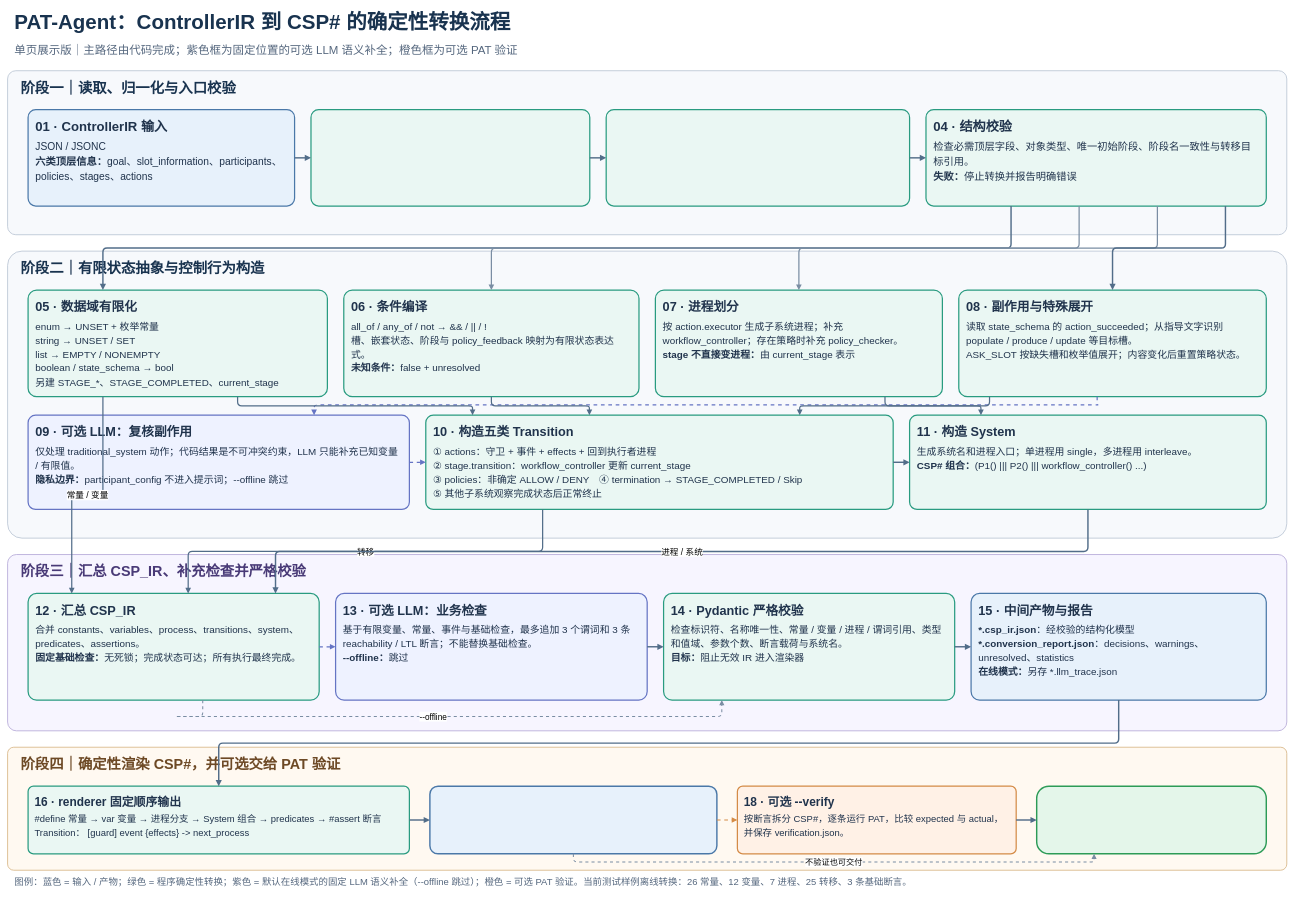
This 1294x897 diagram has some shape labels left out. The centre of each missing label's shape, as x and y in pixels:
02 · JSONC 解析 移除行 / 块注释与尾随逗号，保留字符串内容。 输出： 原始 Python 对象: the point at 450,157
03 · 字段归一化 中英文字段统一为执行 schema；递归处理对象和数组。 输出： 规范化 ControllerIR: the point at 757,157
17 · 生成 *.csp 有限状态、进程、组合与断言组成的完整 CSP# 文本；生成结果不依赖 LLM 自由文本格式。: the point at 573,819
交付 CSP# + 可追溯产物 严格模式下 unresolved 使命令返回状态码 2，但产物仍保留。: the point at 1151,819
